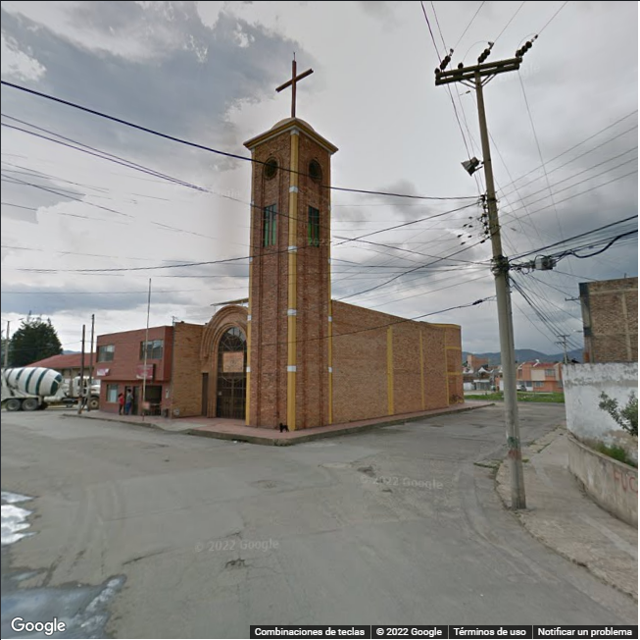D00: (265, 538, 304, 608), (161, 541, 213, 590)
D40: (224, 551, 255, 570)
